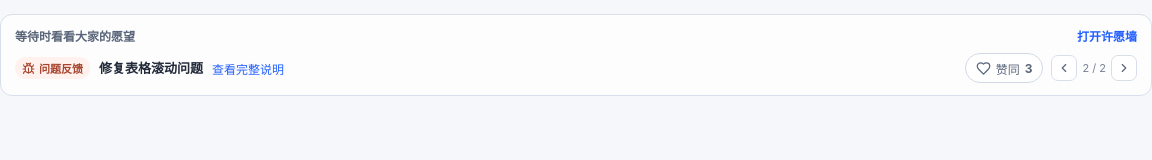
轮播自动切换，悬停与焦点重叠时持续暂停且支持手动切换
The width and height of the screenshot is (1152, 160).
Expected: the text "修复表格滚动问题" is shown, [99,59,203,77]
Hover over the element named "等待时浏览许愿墙": (576, 55) [0,14,1151,96]
Expected: the text "修复表格滚动问题" is shown, [99,59,203,77]
Move the pointer off the element named "等待时浏览许愿墙", box [0,14,1151,96]
Expected: the text "修复表格滚动问题" is shown, [99,59,203,77]
Click the button named "上一个愿望": (1064, 68) [1051,55,1077,81]
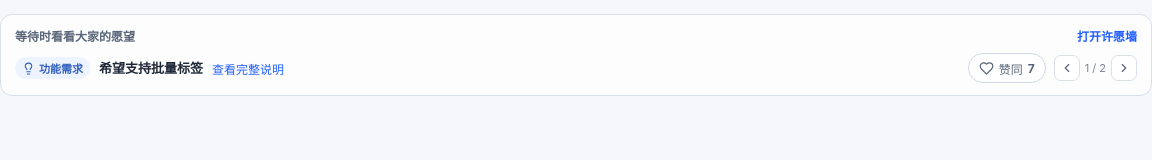
Now the text "希望支持批量标签" is shown, box [99,59,203,77]
Leave the button named "上一个愿望", box [1054,55,1080,81]
Wait 8000 ms
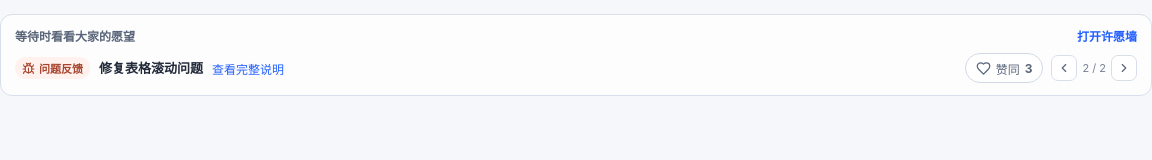
Now the text "修复表格滚动问题" is shown, box [99,59,203,77]
